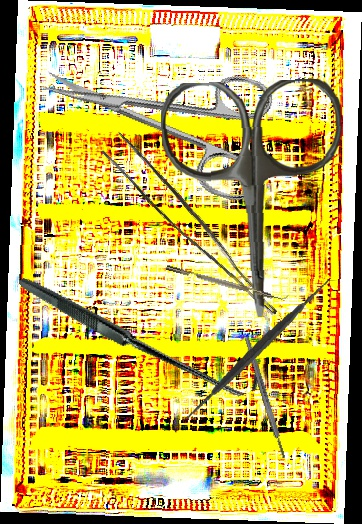Chopper: (165, 258, 290, 305)
Hook Surgical: (18, 208, 263, 459)
Iris Scissors: (27, 18, 288, 207), (159, 77, 349, 321)
Scalpel Handle: (243, 335, 288, 460)
Spatula Surgical: (174, 264, 343, 434)
Tissue Forceps: (96, 131, 296, 317)
